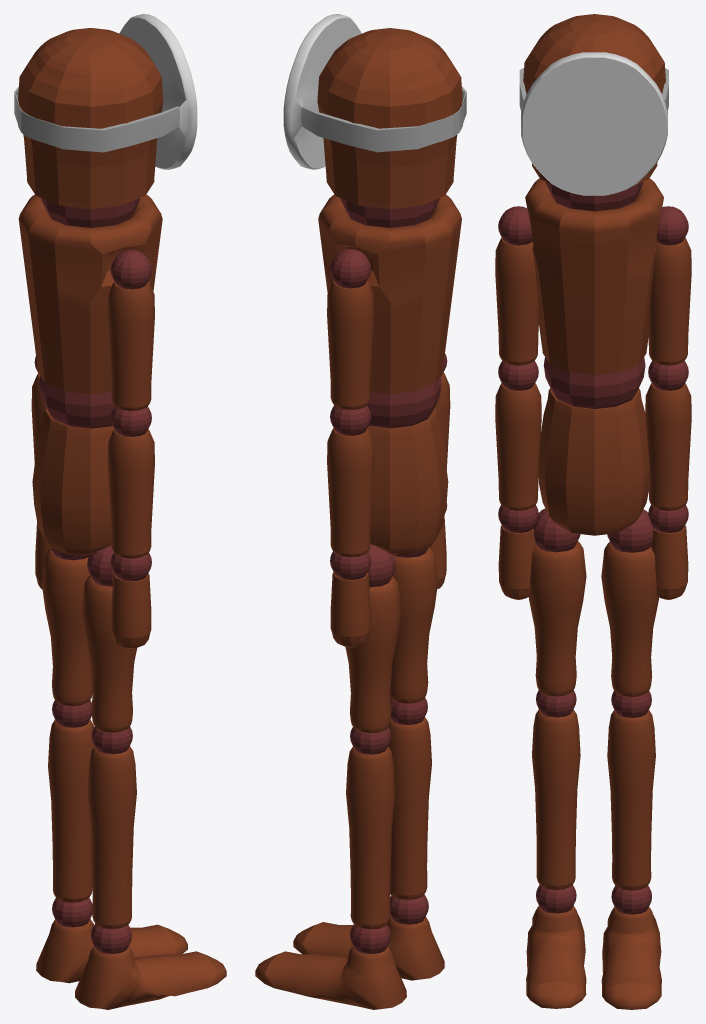
The model's file is AE_Mann_With_Mask.fbx.
3 views of the same model, side by side, from view 1: azimuth 30°, elevation 25°; view 2: azimuth 150°, elevation 25°; view 3: azimuth 270°, elevation 25° (orthographic).
Visible parts, largest first — view 1: Mann_Head, Mann_Torso, Mann_Hips, Mann_Mask, Mann_LowerLeg02, Mann_LowerLeg01, Mann_Foot02, Mann_Joint02 (×2), Mann_Joint01, Mann_Leg02, Mann_Leg01, Mann_Foot01 (+2 smaller); view 2: Mann_Head, Mann_Torso, Mann_Hips, Mann_Mask, Mann_LowerLeg01, Mann_Foot01, Mann_LowerLeg02, Mann_Joint02 (×2), Mann_Joint01, Mann_Leg01, Mann_Leg02, Mann_Foot02 (+2 smaller); view 3: Mann_Torso, Mann_Mask, Mann_Hips, Mann_Joint02 (×2), Mann_Joint01 (×2), Mann_LowerLeg02, Mann_LowerLeg01, Mann_Leg02, Mann_Leg01, Mann_Head, Mann_Foot01, Mann_Foot02 (+2 smaller).
Boxes of the visible parts, box(x1,y1,x2,y2) form: Mann_Head: box(18, 28, 163, 227); Mann_Torso: box(18, 194, 162, 428); Mann_Hips: box(32, 407, 114, 554); Mann_Mask: box(14, 14, 197, 169); Mann_LowerLeg02: box(87, 726, 136, 929); Mann_LowerLeg01: box(48, 700, 94, 902); Mann_Foot02: box(75, 923, 226, 1009); Mann_Joint02 (×2): box(31, 356, 154, 558); Mann_Joint01: box(107, 249, 154, 410); Mann_Leg02: box(81, 545, 137, 732); Mann_Leg01: box(42, 547, 92, 706); Mann_Foot01: box(36, 898, 187, 983); Mann_Head: box(317, 28, 462, 227); Mann_Torso: box(318, 194, 461, 428); Mann_Hips: box(367, 407, 448, 554); Mann_Mask: box(283, 14, 466, 169); Mann_LowerLeg01: box(346, 727, 395, 929); Mann_Foot01: box(255, 924, 406, 1009); Mann_LowerLeg02: box(388, 697, 431, 899); Mann_Joint02 (×2): box(327, 353, 450, 557); Mann_Joint01: box(327, 248, 374, 409); Mann_Leg01: box(345, 544, 401, 733); Mann_Leg02: box(390, 547, 437, 703); Mann_Foot02: box(293, 894, 444, 980); Mann_Torso: box(525, 178, 663, 408); Mann_Mask: box(519, 52, 668, 195); Mann_Hips: box(538, 388, 649, 535); Mann_Joint02 (×2): box(495, 361, 691, 511); Mann_Joint01 (×2): box(495, 206, 691, 365); Mann_LowerLeg02: box(532, 690, 580, 890); Mann_LowerLeg01: box(607, 690, 655, 890); Mann_Leg02: box(528, 508, 586, 696); Mann_Leg01: box(601, 509, 658, 697); Mann_Head: box(523, 14, 665, 211); Mann_Foot01: box(601, 885, 661, 1009); Mann_Foot02: box(526, 885, 586, 1008).
Size of the model in its own units: 100 by 507 by 96.61.
